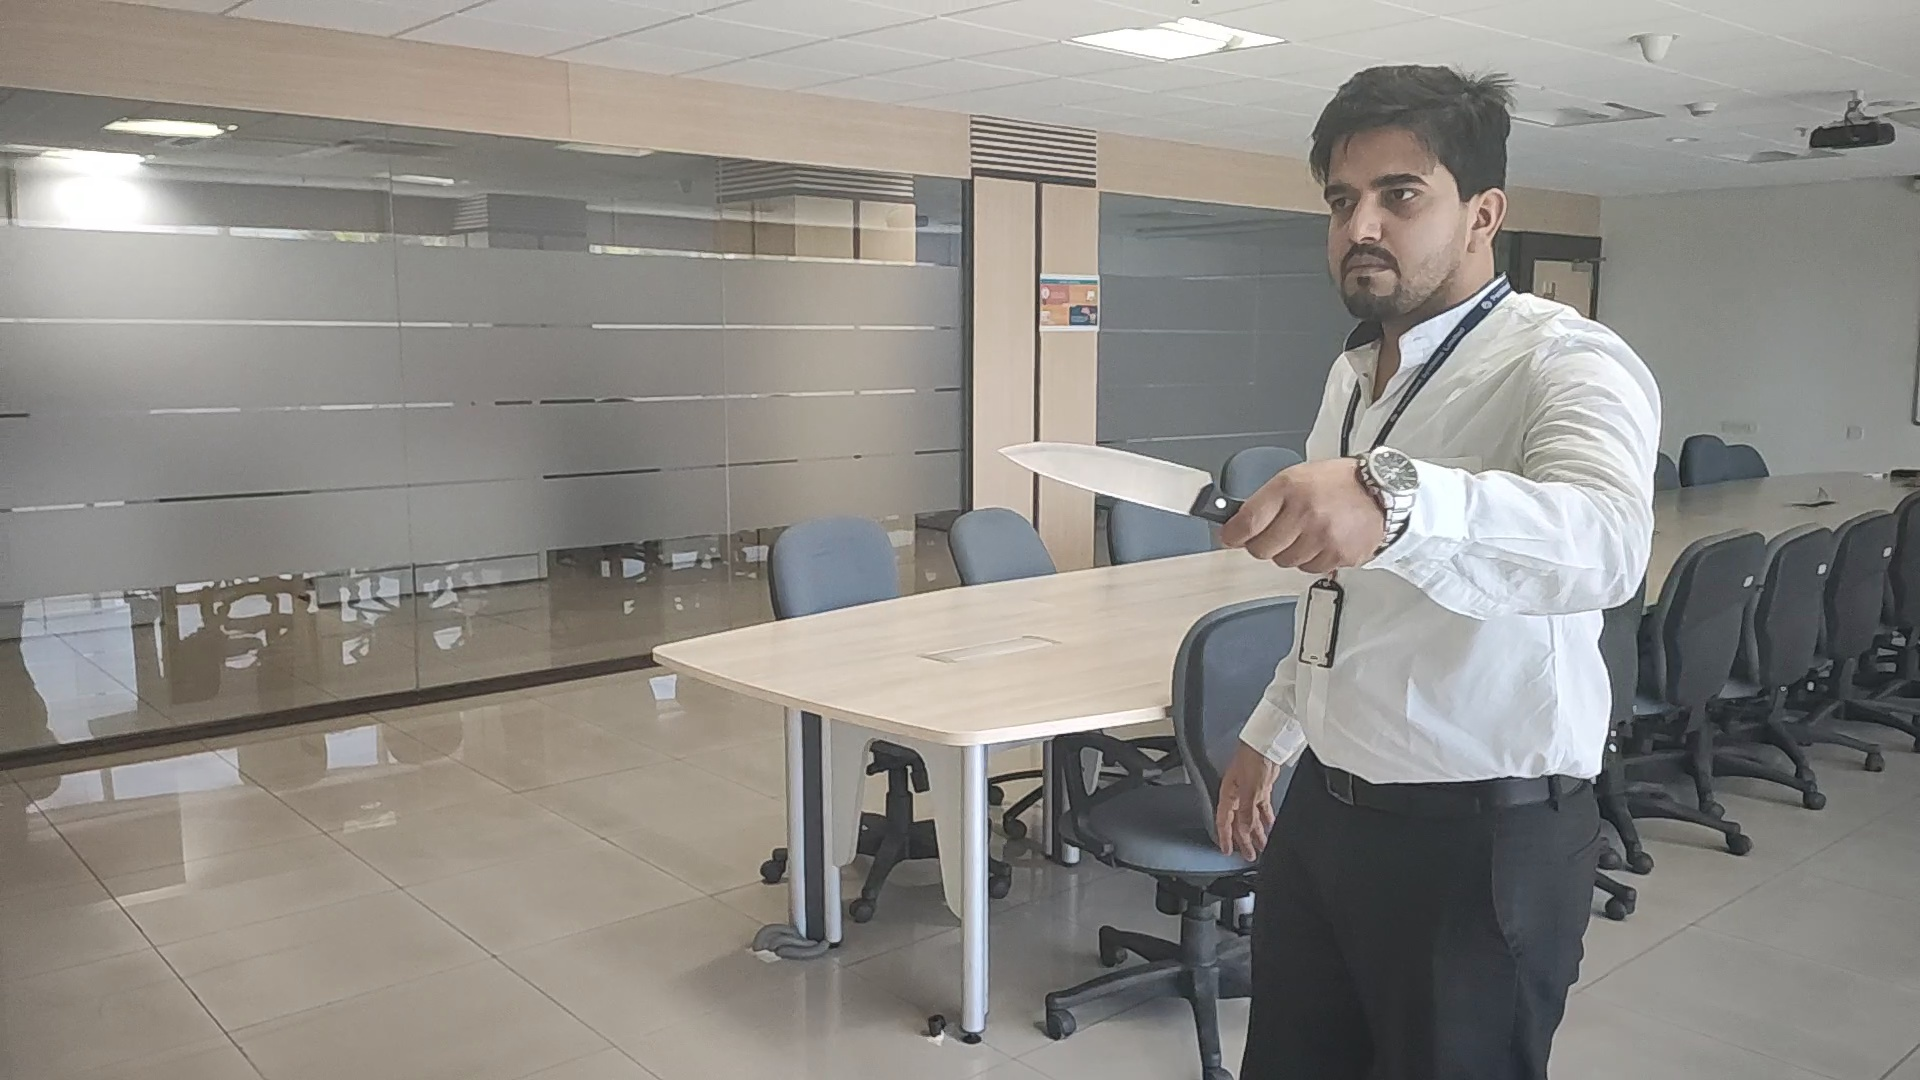knife: (1000, 436, 1242, 520)
